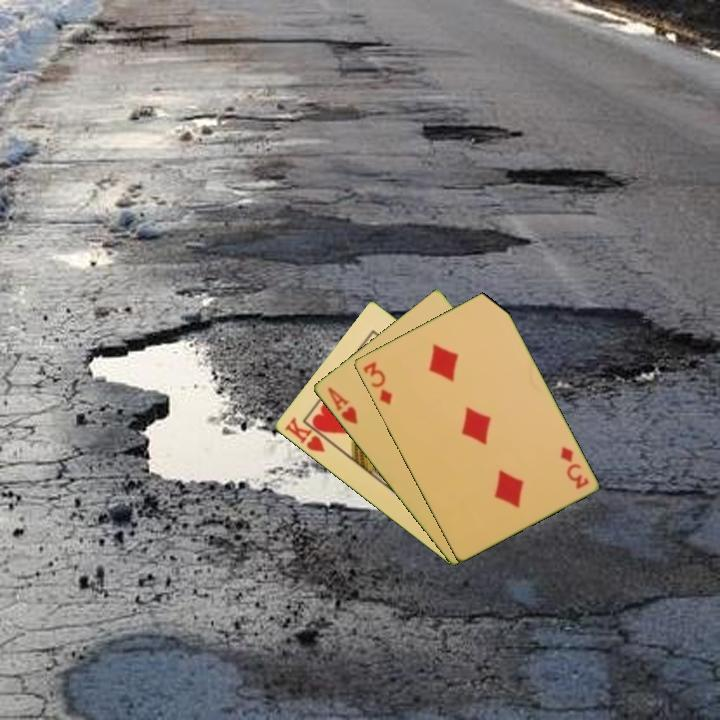3d: (359, 358, 395, 407), (556, 443, 591, 492)
Ah: (324, 383, 360, 428)
Kh: (281, 414, 336, 455)
